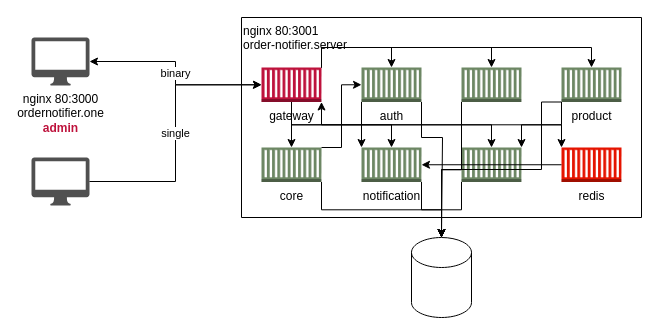
This 659x335 diagram has some shape labels left out. Here are the shapes that lost their labels. From the top down, the centre of each, then its label:
At [491,84]: "cart".
At [60,181]: "nginx 80:3000 ordernotifier.one customer".
At [491,164]: "order".
At [441,277]: "postgres 5432:5432 database".
